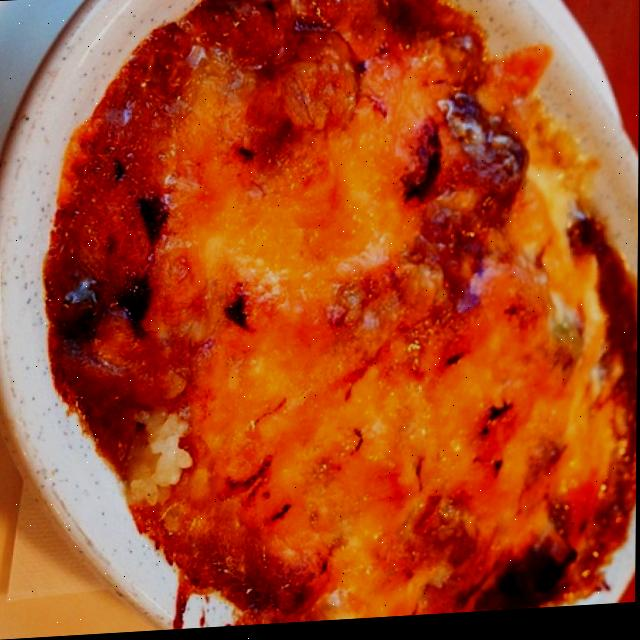米饭主食: (33, 0, 640, 638)
